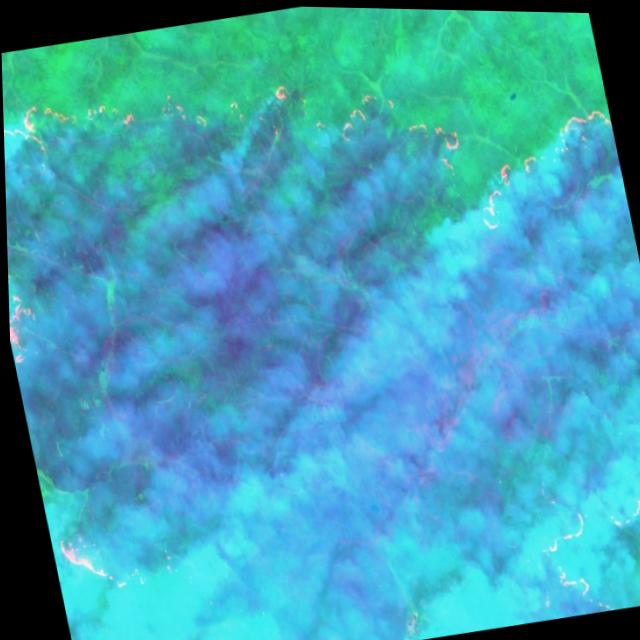fire: (77, 37, 467, 240), (2, 94, 124, 372), (501, 405, 640, 620), (453, 93, 633, 254), (43, 516, 129, 614)
